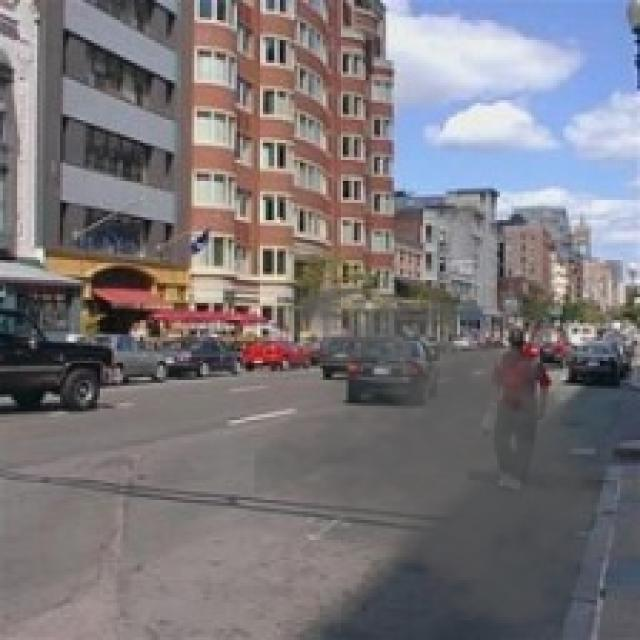smoke: (254, 272, 629, 634)
